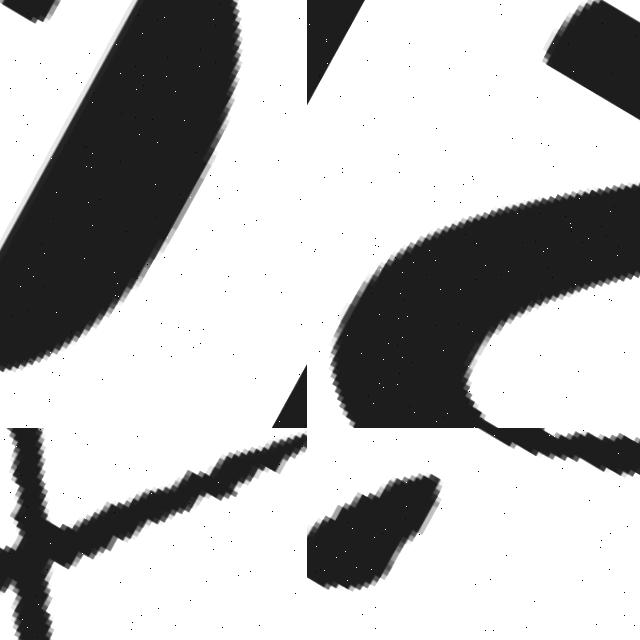2: (307, 0, 640, 428)
I: (307, 428, 640, 640)
X: (0, 428, 307, 640)
